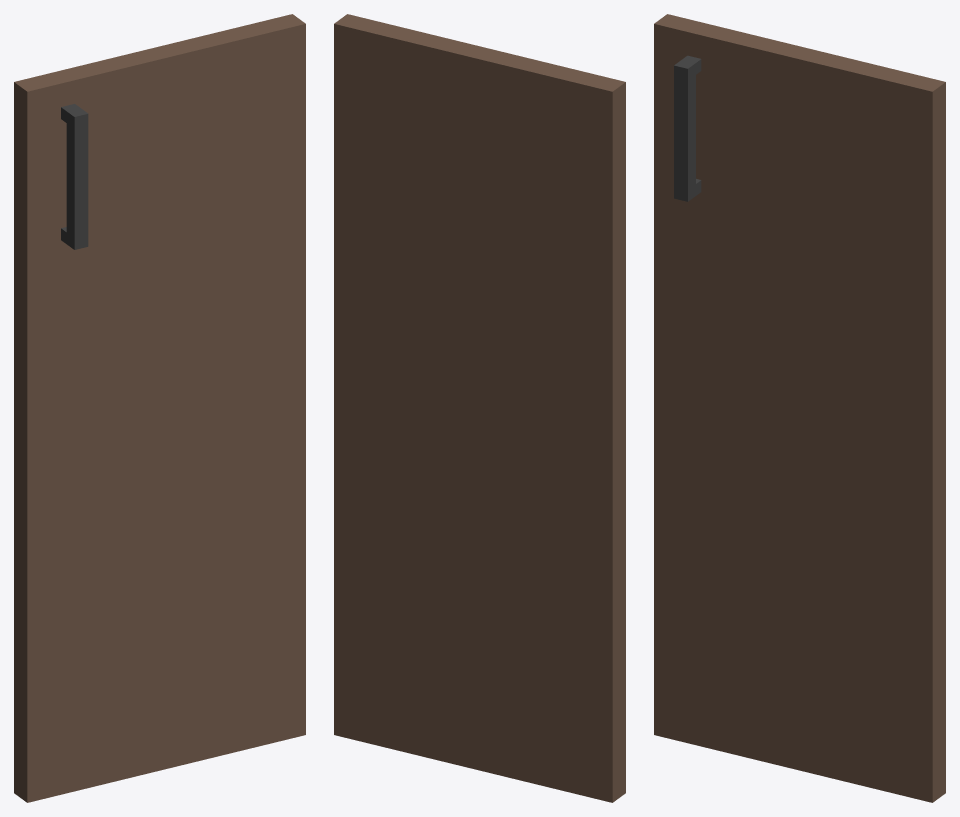
File: BathroomDoor_C2_01.fbx
3 renders of one model, left to right at view 1: azimuth 30°, elevation 25°; view 2: azimuth 150°, elevation 25°; view 3: azimuth 330°, elevation 25°, orthographic.
Parts seen in each view (by area): view 1: BathroomDoor_C2_01; view 2: BathroomDoor_C2_01; view 3: BathroomDoor_C2_01.
Part boxes in pixels (left/top/right/bottom): BathroomDoor_C2_01: left=14, top=14, right=305, bottom=802; BathroomDoor_C2_01: left=334, top=14, right=625, bottom=802; BathroomDoor_C2_01: left=654, top=14, right=945, bottom=802.
Size of the model in its own units: 30 by 73.19 by 5.03.
